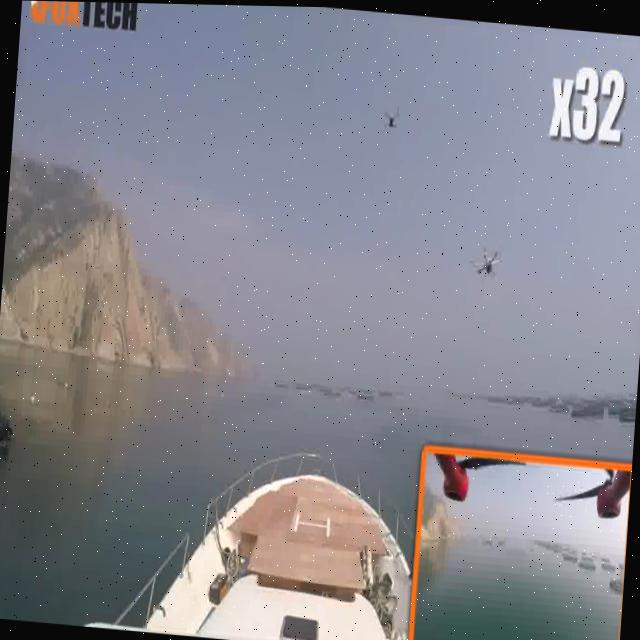drone: (360, 84, 414, 156)
